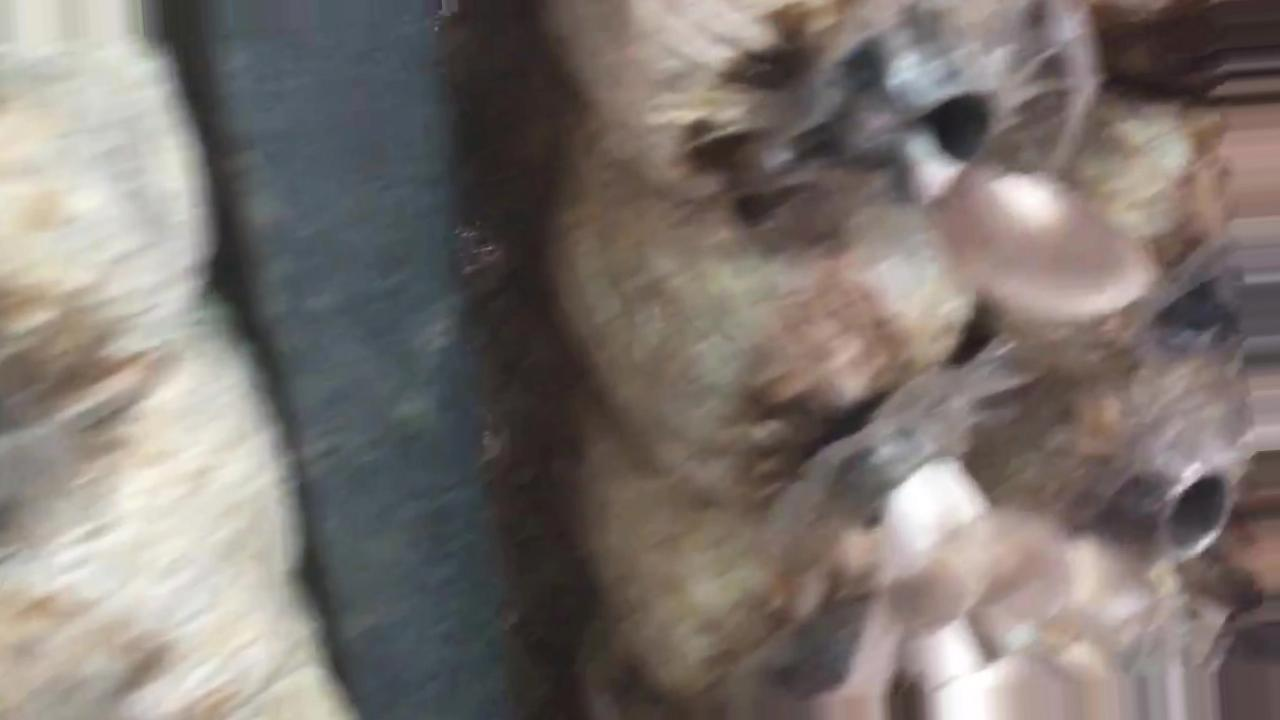nam: (816, 423, 1078, 720), (877, 49, 1149, 324)
